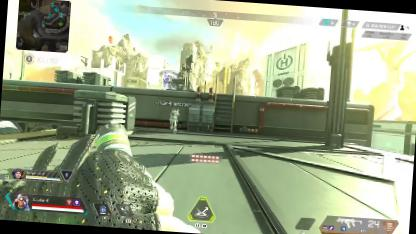Target: (168, 107, 180, 134)
